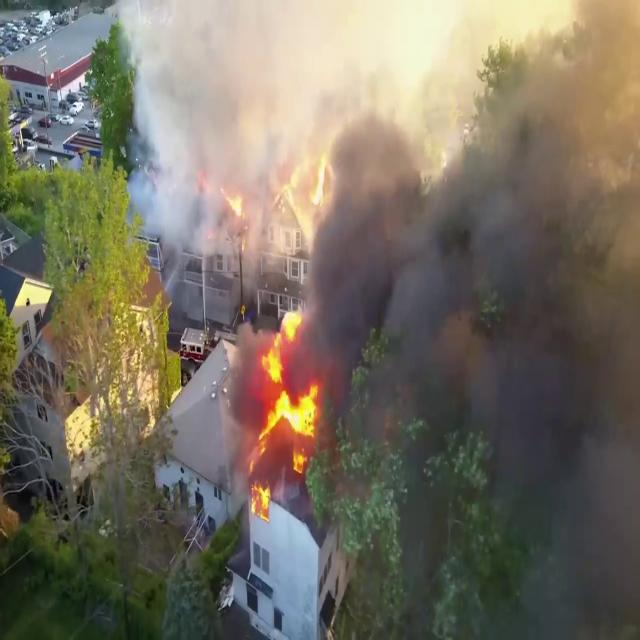Fire: (259, 313, 323, 459)
Smoke: (295, 3, 640, 399), (119, 0, 291, 250)
